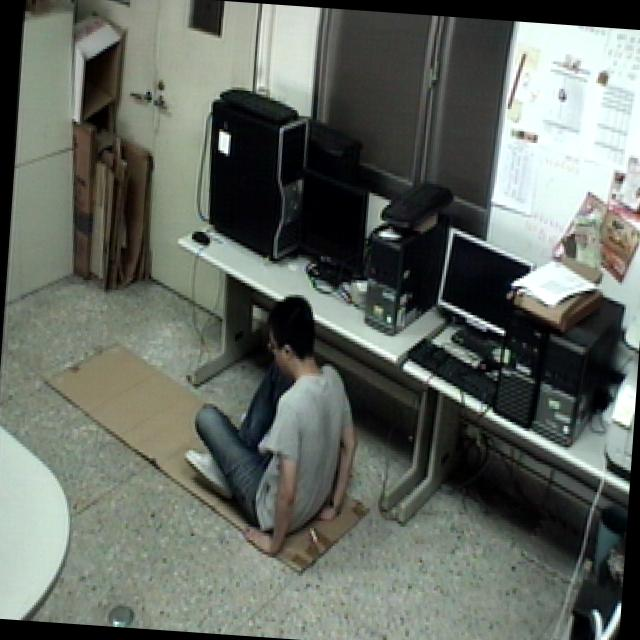sit: (176, 285, 373, 568)
